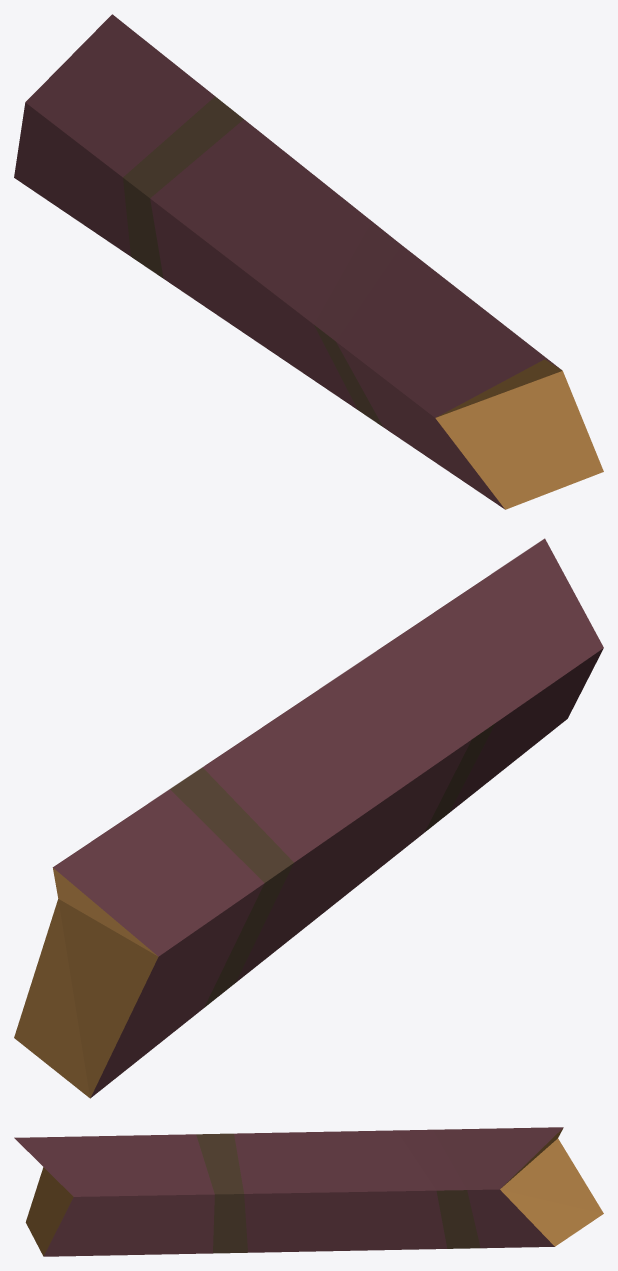
The model's file is nature-tree-birch-debris-a.glb.
3 renders of one model, top to bottom at view 1: azimuth 30°, elevation 25°; view 2: azimuth 150°, elevation 25°; view 3: azimuth 270°, elevation 25°, orthographic. The views are drawn at different scales.
Parts seen in each view (by area): view 1: tree-birch-debris-a; view 2: tree-birch-debris-a; view 3: tree-birch-debris-a.
Part boxes in pixels (box(x1,y1,x2,y2)): tree-birch-debris-a: box(14, 14, 603, 509); tree-birch-debris-a: box(14, 538, 603, 1098); tree-birch-debris-a: box(14, 1127, 603, 1256).
Size of the model in its own units: 0.3176 by 0.3114 by 1.56.
